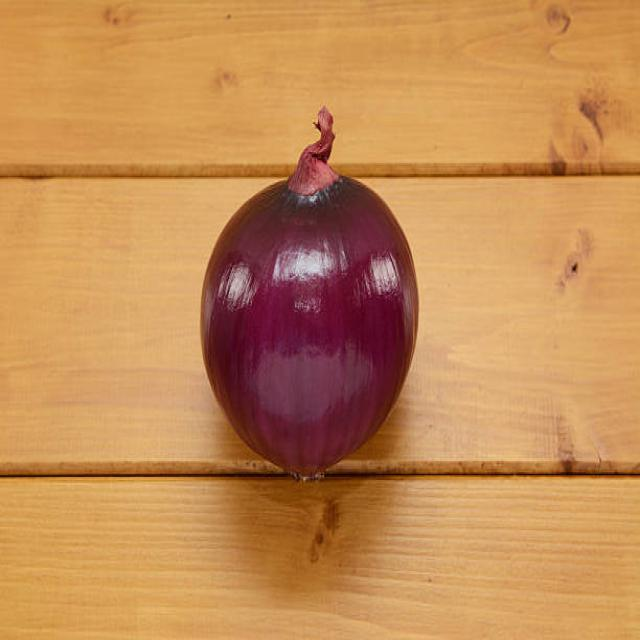onion: (196, 170, 420, 472)
